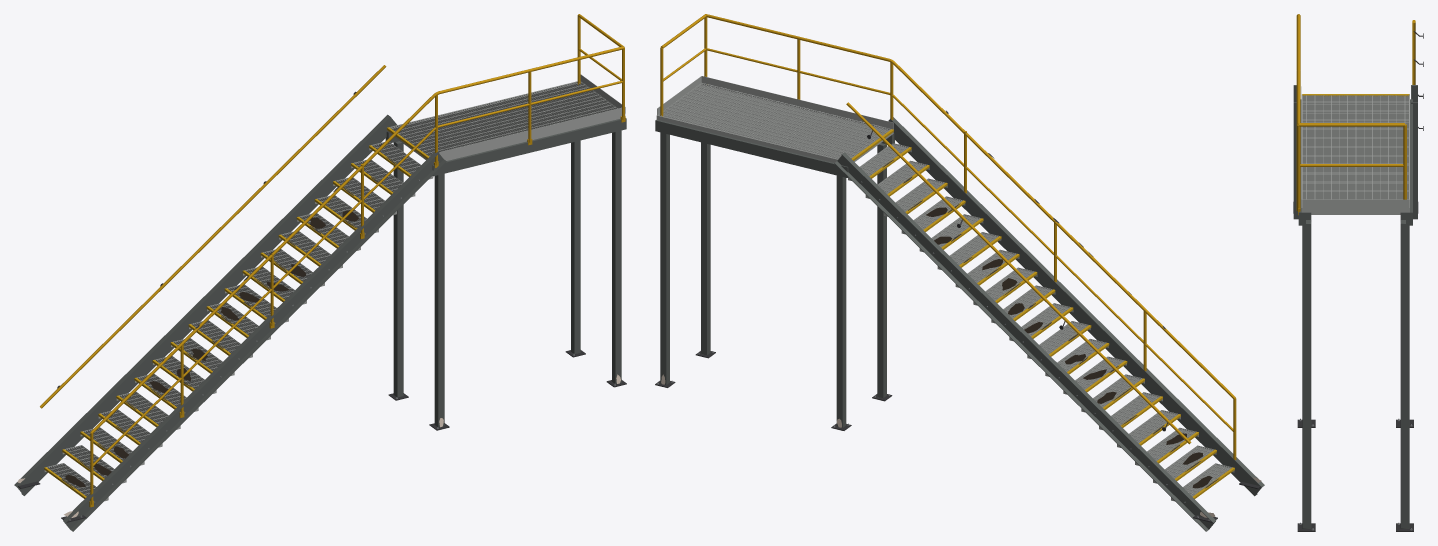
File: grate_stair.glb
3 views of the same model, side by side, from view 1: azimuth 30°, elevation 25°; view 2: azimuth 150°, elevation 25°; view 3: azimuth 270°, elevation 25° (orthographic). The views are drawn at different scales.
Parts seen in each view (by area): view 1: teil, teil.004, teil.007, teil.005, teil.006, teil.001; view 2: teil, teil.004, teil.007, teil.005, teil.006, teil.001; view 3: teil.004, teil, teil.007, teil.001, teil.005.
Part boxes in pixels (x1=…): teil: x1=14, y1=114, x2=626, y2=531; teil.004: x1=44, y1=74, x2=625, y2=501; teil.007: x1=40, y1=14, x2=625, y2=507; teil.005: x1=44, y1=127, x2=429, y2=498; teil.006: x1=65, y1=210, x2=358, y2=487; teil.001: x1=18, y1=91, x2=626, y2=522; teil: x1=655, y1=117, x2=1264, y2=531; teil.004: x1=656, y1=76, x2=1234, y2=501; teil.007: x1=660, y1=14, x2=1236, y2=460; teil.005: x1=851, y1=129, x2=1234, y2=498; teil.006: x1=926, y1=207, x2=1212, y2=488; teil.001: x1=655, y1=110, x2=1260, y2=522; teil.004: x1=1301, y1=86, x2=1409, y2=214; teil: x1=1293, y1=85, x2=1417, y2=528; teil.007: x1=1296, y1=14, x2=1415, y2=215; teil.001: x1=1293, y1=31, x2=1423, y2=531; teil.005: x1=1302, y1=94, x2=1409, y2=96.
Size of the model in its own units: 8.74 by 5.18 by 1.46.
